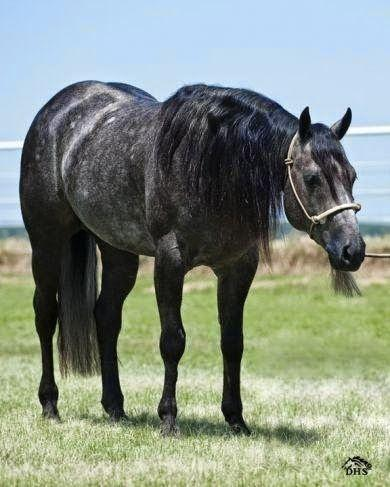horse: (18, 78, 366, 437)
